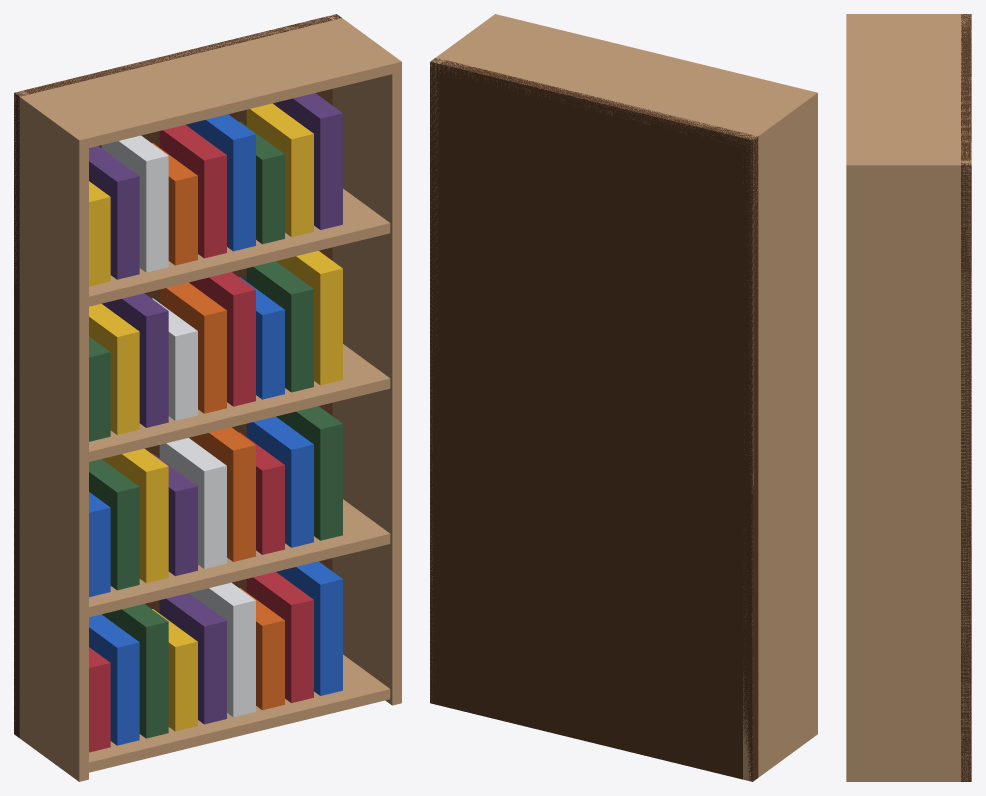
The model's file is bookshelf.glb.
3 views of the same model, side by side, from view 1: azimuth 30°, elevation 25°; view 2: azimuth 150°, elevation 25°; view 3: azimuth 270°, elevation 25° (orthographic). The views are drawn at different scales.
Visible parts, largest first — view 1: bookshelf; view 2: bookshelf; view 3: bookshelf.
Part boxes in pixels (<box>): bookshelf: <box>14,14,401,781</box>; bookshelf: <box>430,14,817,781</box>; bookshelf: <box>846,14,971,781</box>.
Size of the model in its own units: 1 by 1.9 by 0.35.
